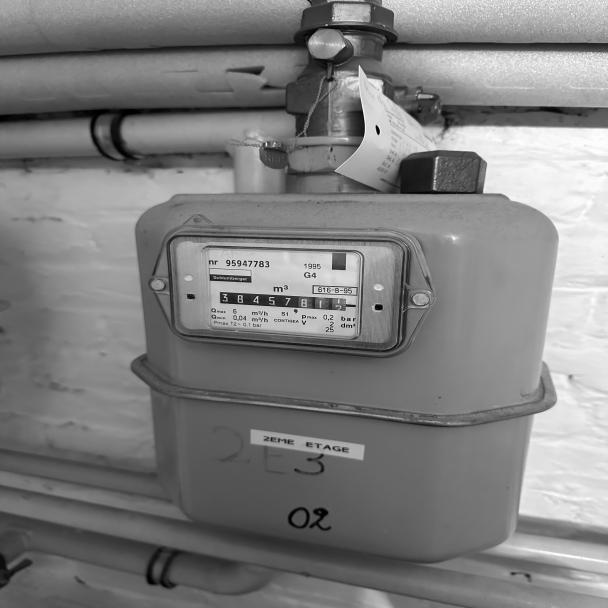3: (218, 290, 236, 304)
4: (250, 292, 264, 308)
5: (264, 292, 282, 310)
7: (281, 292, 297, 312)
8: (297, 291, 313, 310), (312, 296, 330, 312), (234, 291, 250, 305)
cm: (298, 296, 350, 312)
counter: (215, 292, 297, 310)
